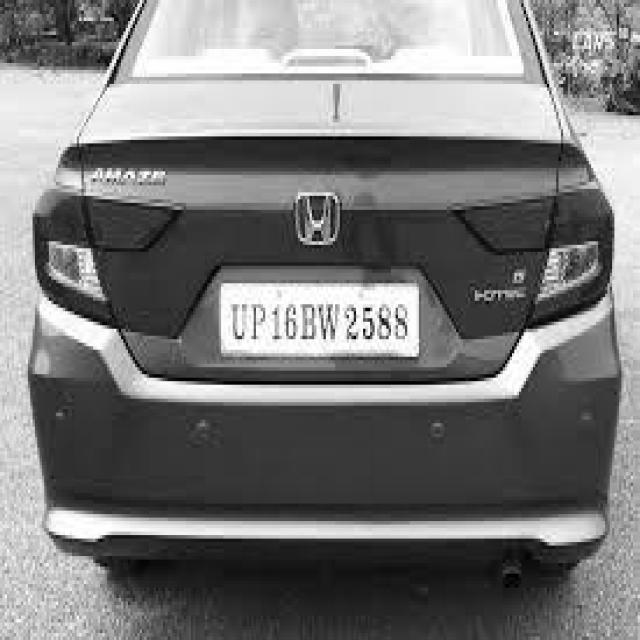license-plate: (216, 283, 424, 357)
